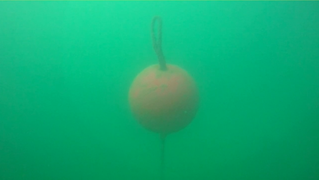buoy: (128, 64, 200, 134)
